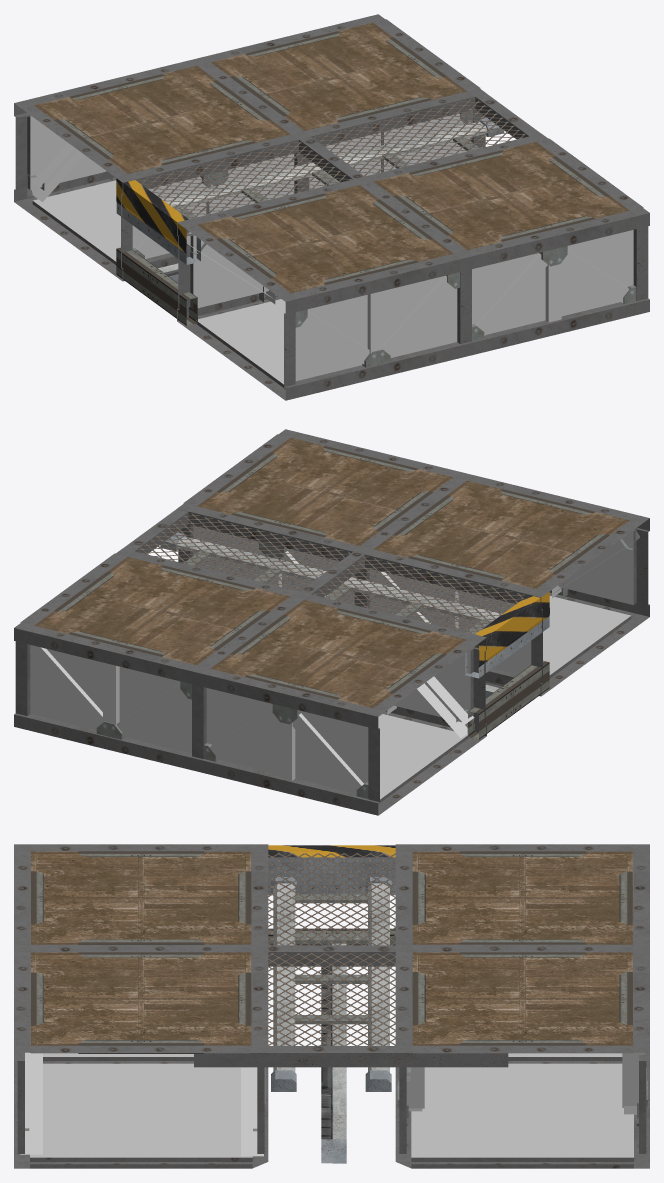
File: Ob_PlatformRailRoad2_RC.fbx
The picture shows the model from 3 angles, top to bottom: view 1: azimuth 30°, elevation 25°; view 2: azimuth 150°, elevation 25°; view 3: azimuth 270°, elevation 25°; orthographic projection. The views are drawn at different scales.
Parts seen in each view (by area): view 1: Ob_PlatformRailRoad2_RC; view 2: Ob_PlatformRailRoad2_RC; view 3: Ob_PlatformRailRoad2_RC.
Boxes of the visible parts, left/top/right/bottom form: Ob_PlatformRailRoad2_RC: left=14, top=14, right=649, bottom=400; Ob_PlatformRailRoad2_RC: left=14, top=429, right=649, bottom=815; Ob_PlatformRailRoad2_RC: left=14, top=844, right=649, bottom=1168.
Bounding box in the file's own units: 1569 × 403 × 2000.
